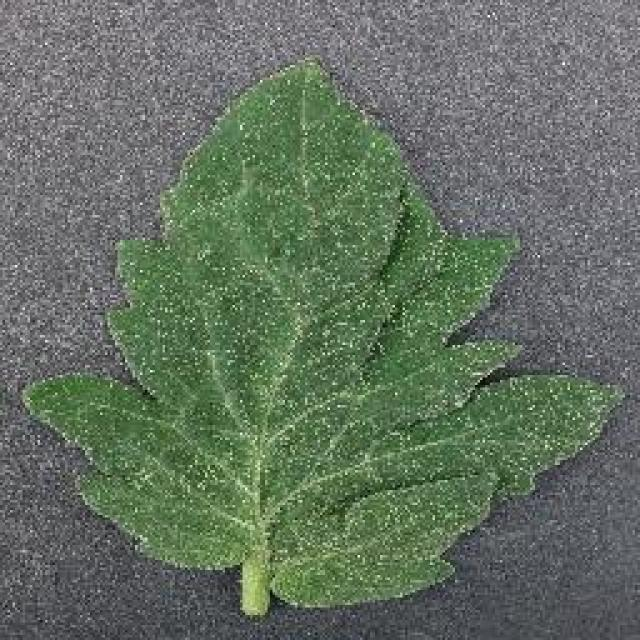Tomato healthy leaf: (36, 63, 619, 595)
